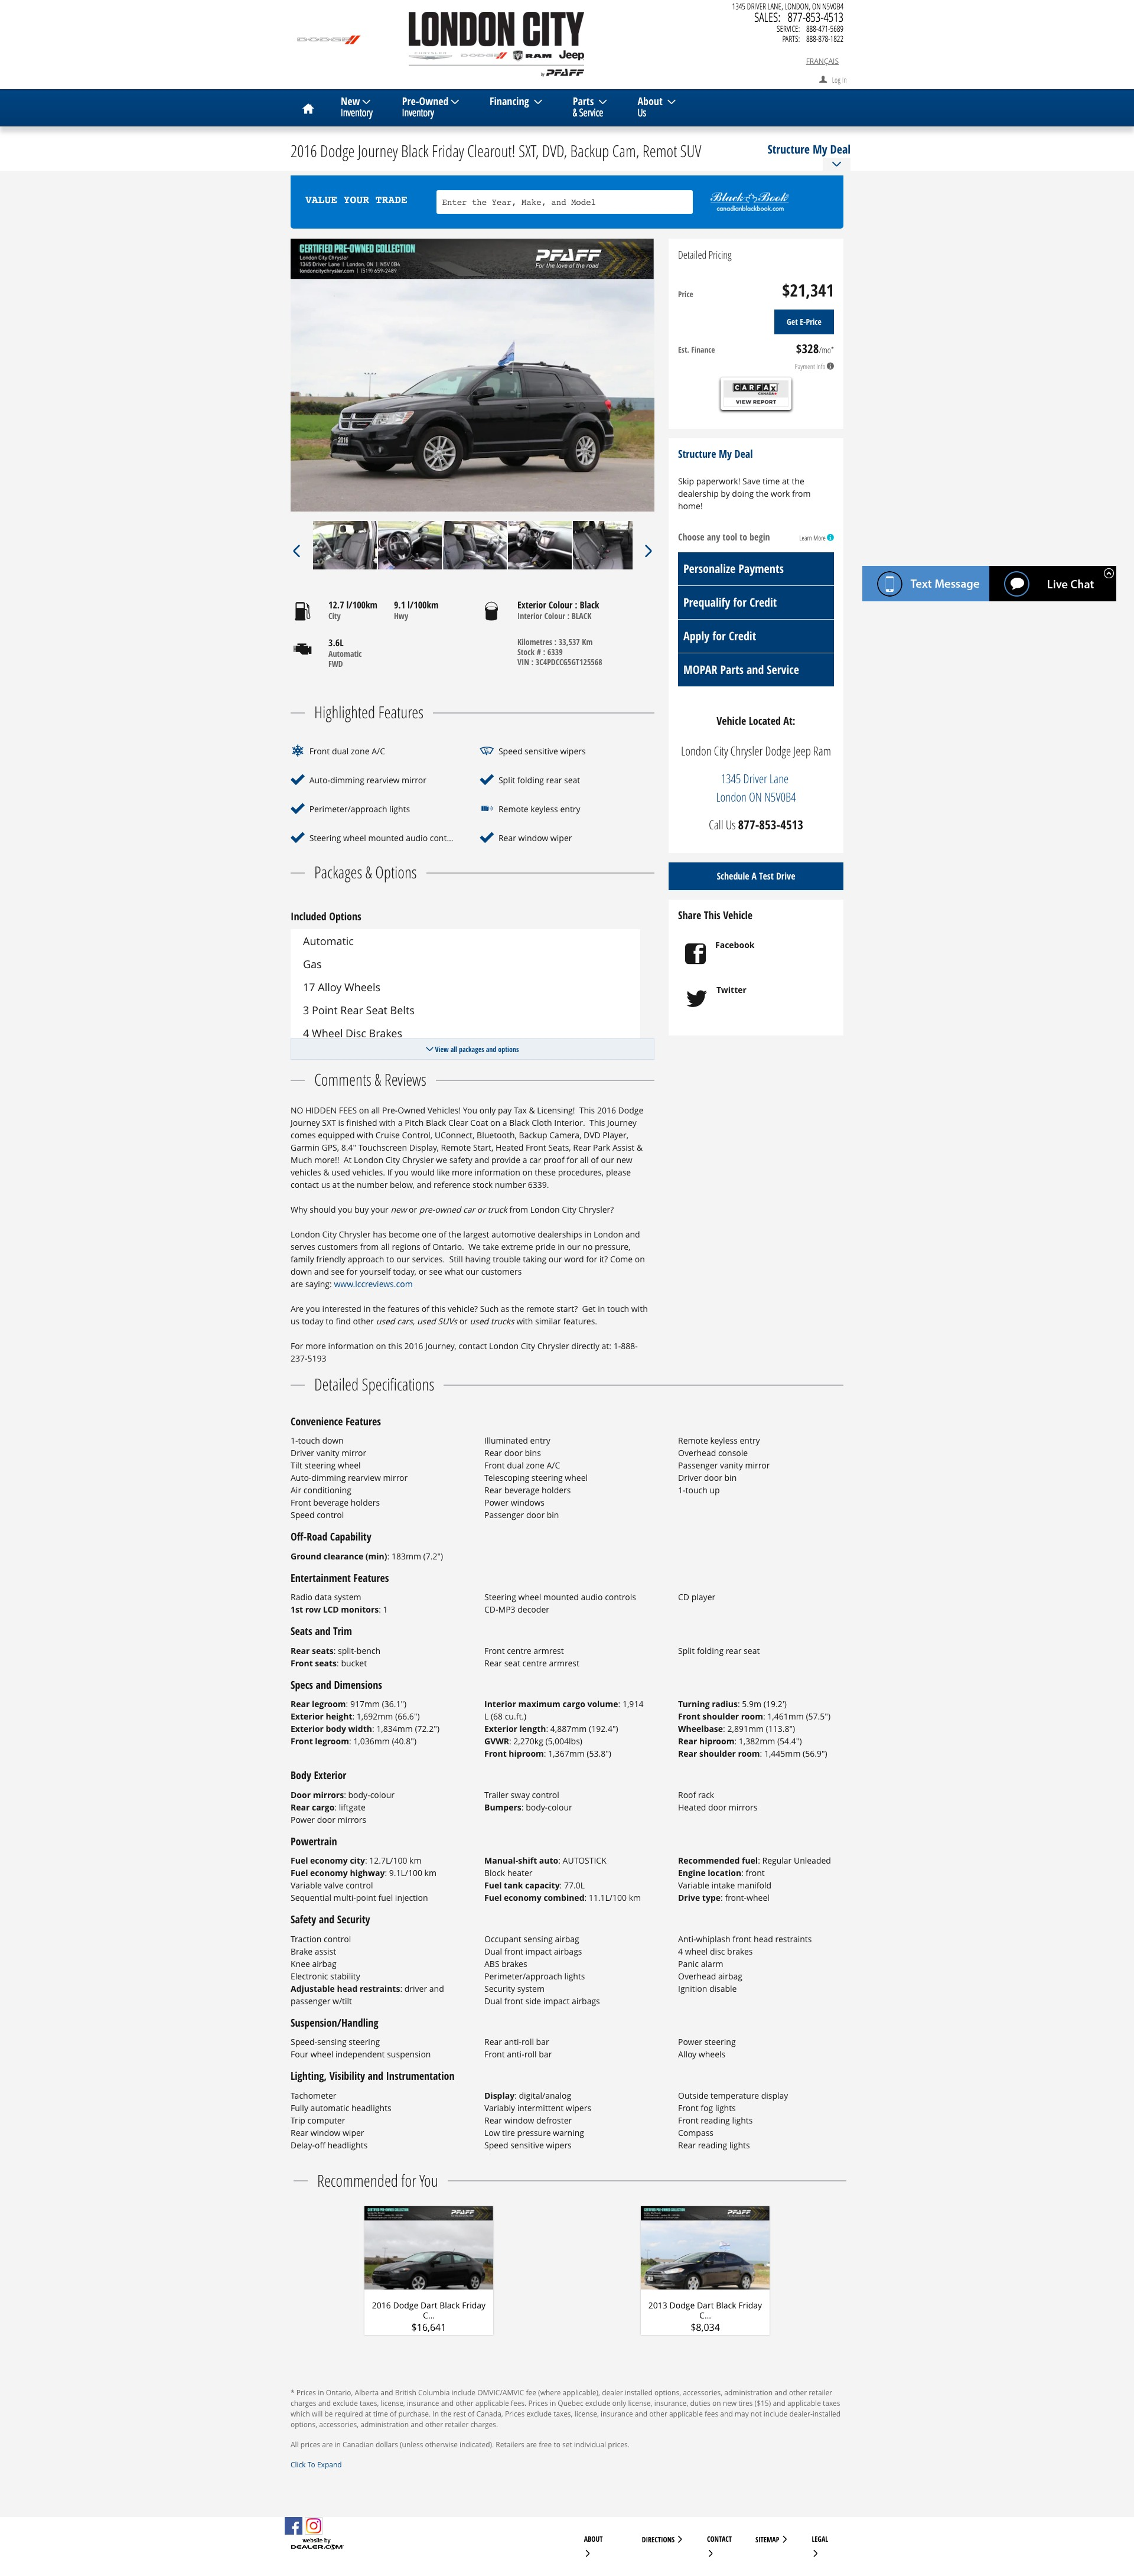car: (644, 544, 654, 560)
